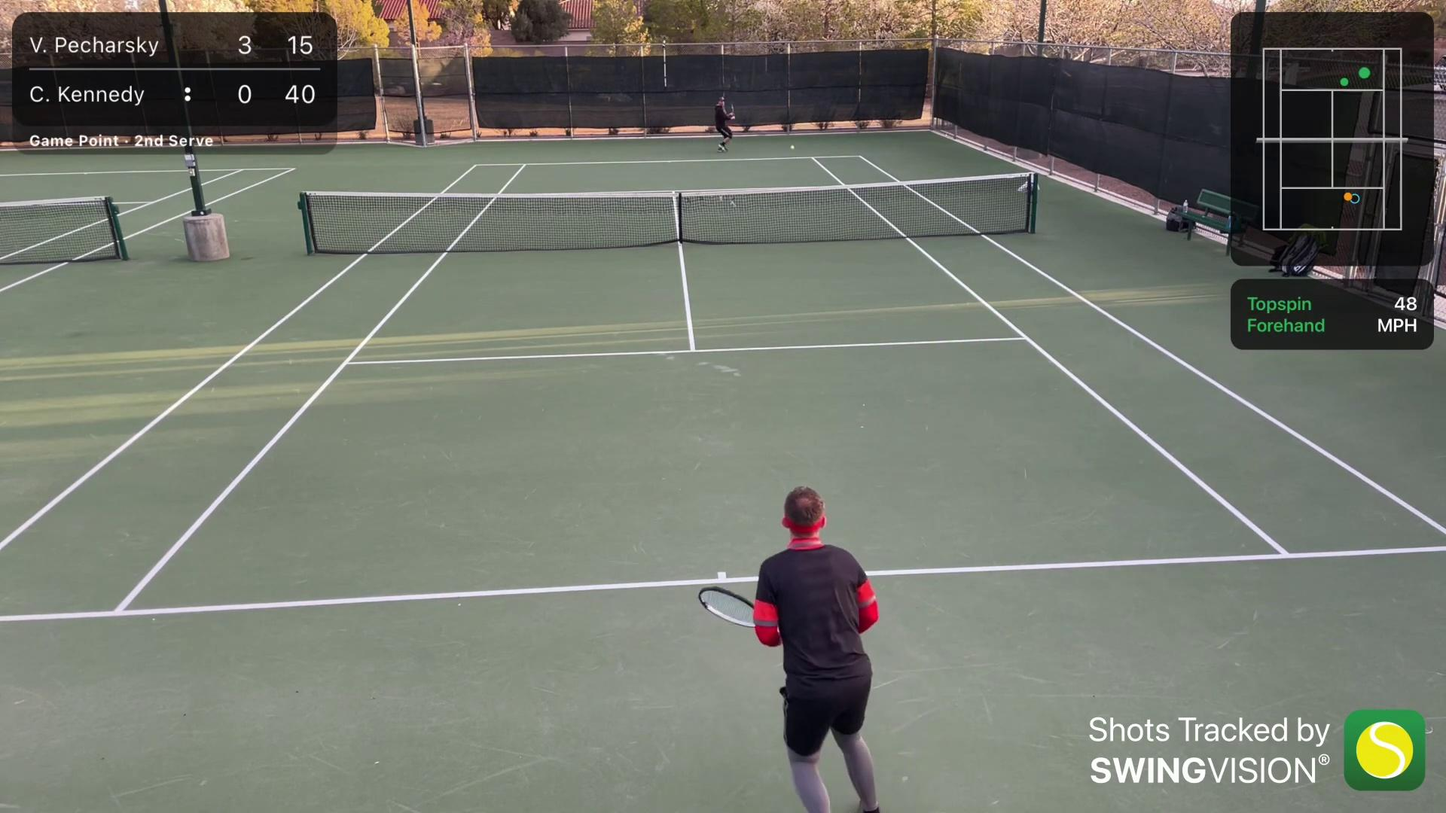ball: (788, 144, 796, 151)
